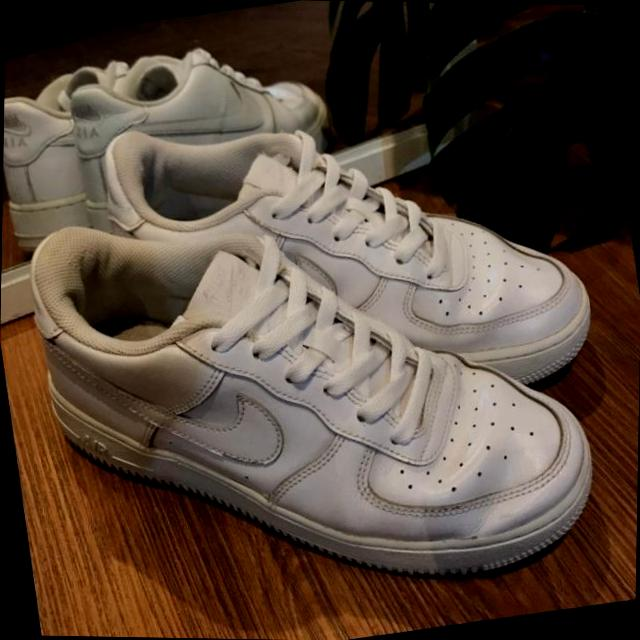nike_fake_airforce: (16, 144, 618, 640), (76, 64, 605, 452)
